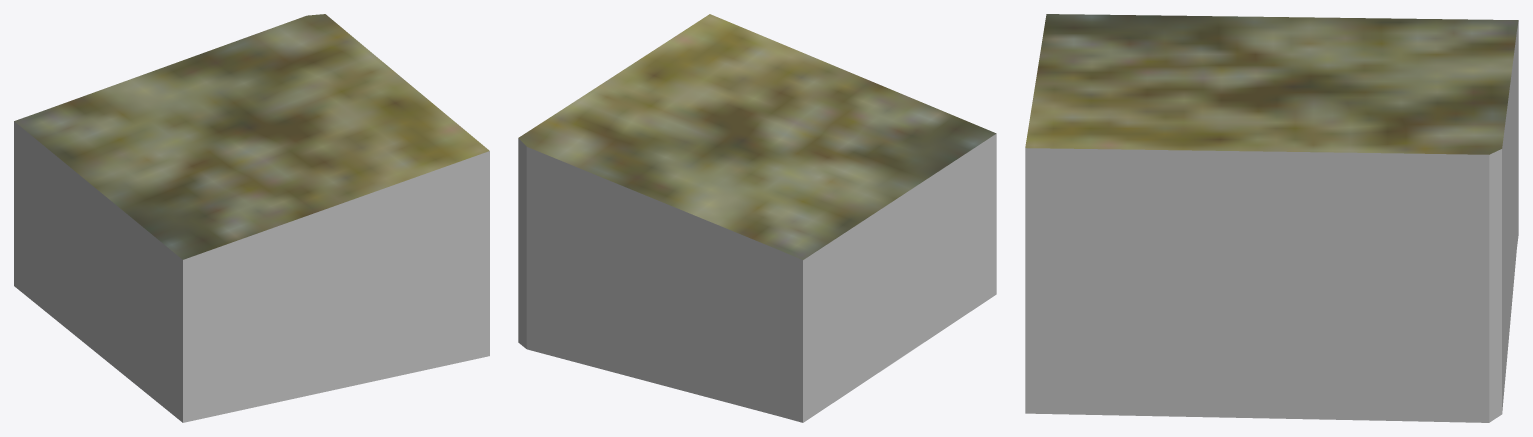
The model's file is DEBW_0010007Txgp.gltf.
3 renders of one model, left to right at view 1: azimuth 30°, elevation 25°; view 2: azimuth 150°, elevation 25°; view 3: azimuth 270°, elevation 25°, orthographic. The views are drawn at different scales.
Visible parts, largest first — view 1: Z_UP; view 2: Z_UP; view 3: Z_UP.
Boxes of the visible parts, x1,y1,x2,y2 form: Z_UP: [14, 14, 489, 422]; Z_UP: [518, 14, 996, 422]; Z_UP: [1025, 14, 1518, 422].
Bounding box in the file's own units: 5.07 × 3.2 × 5.34.
Materials: 2 (1 with a texture image).
